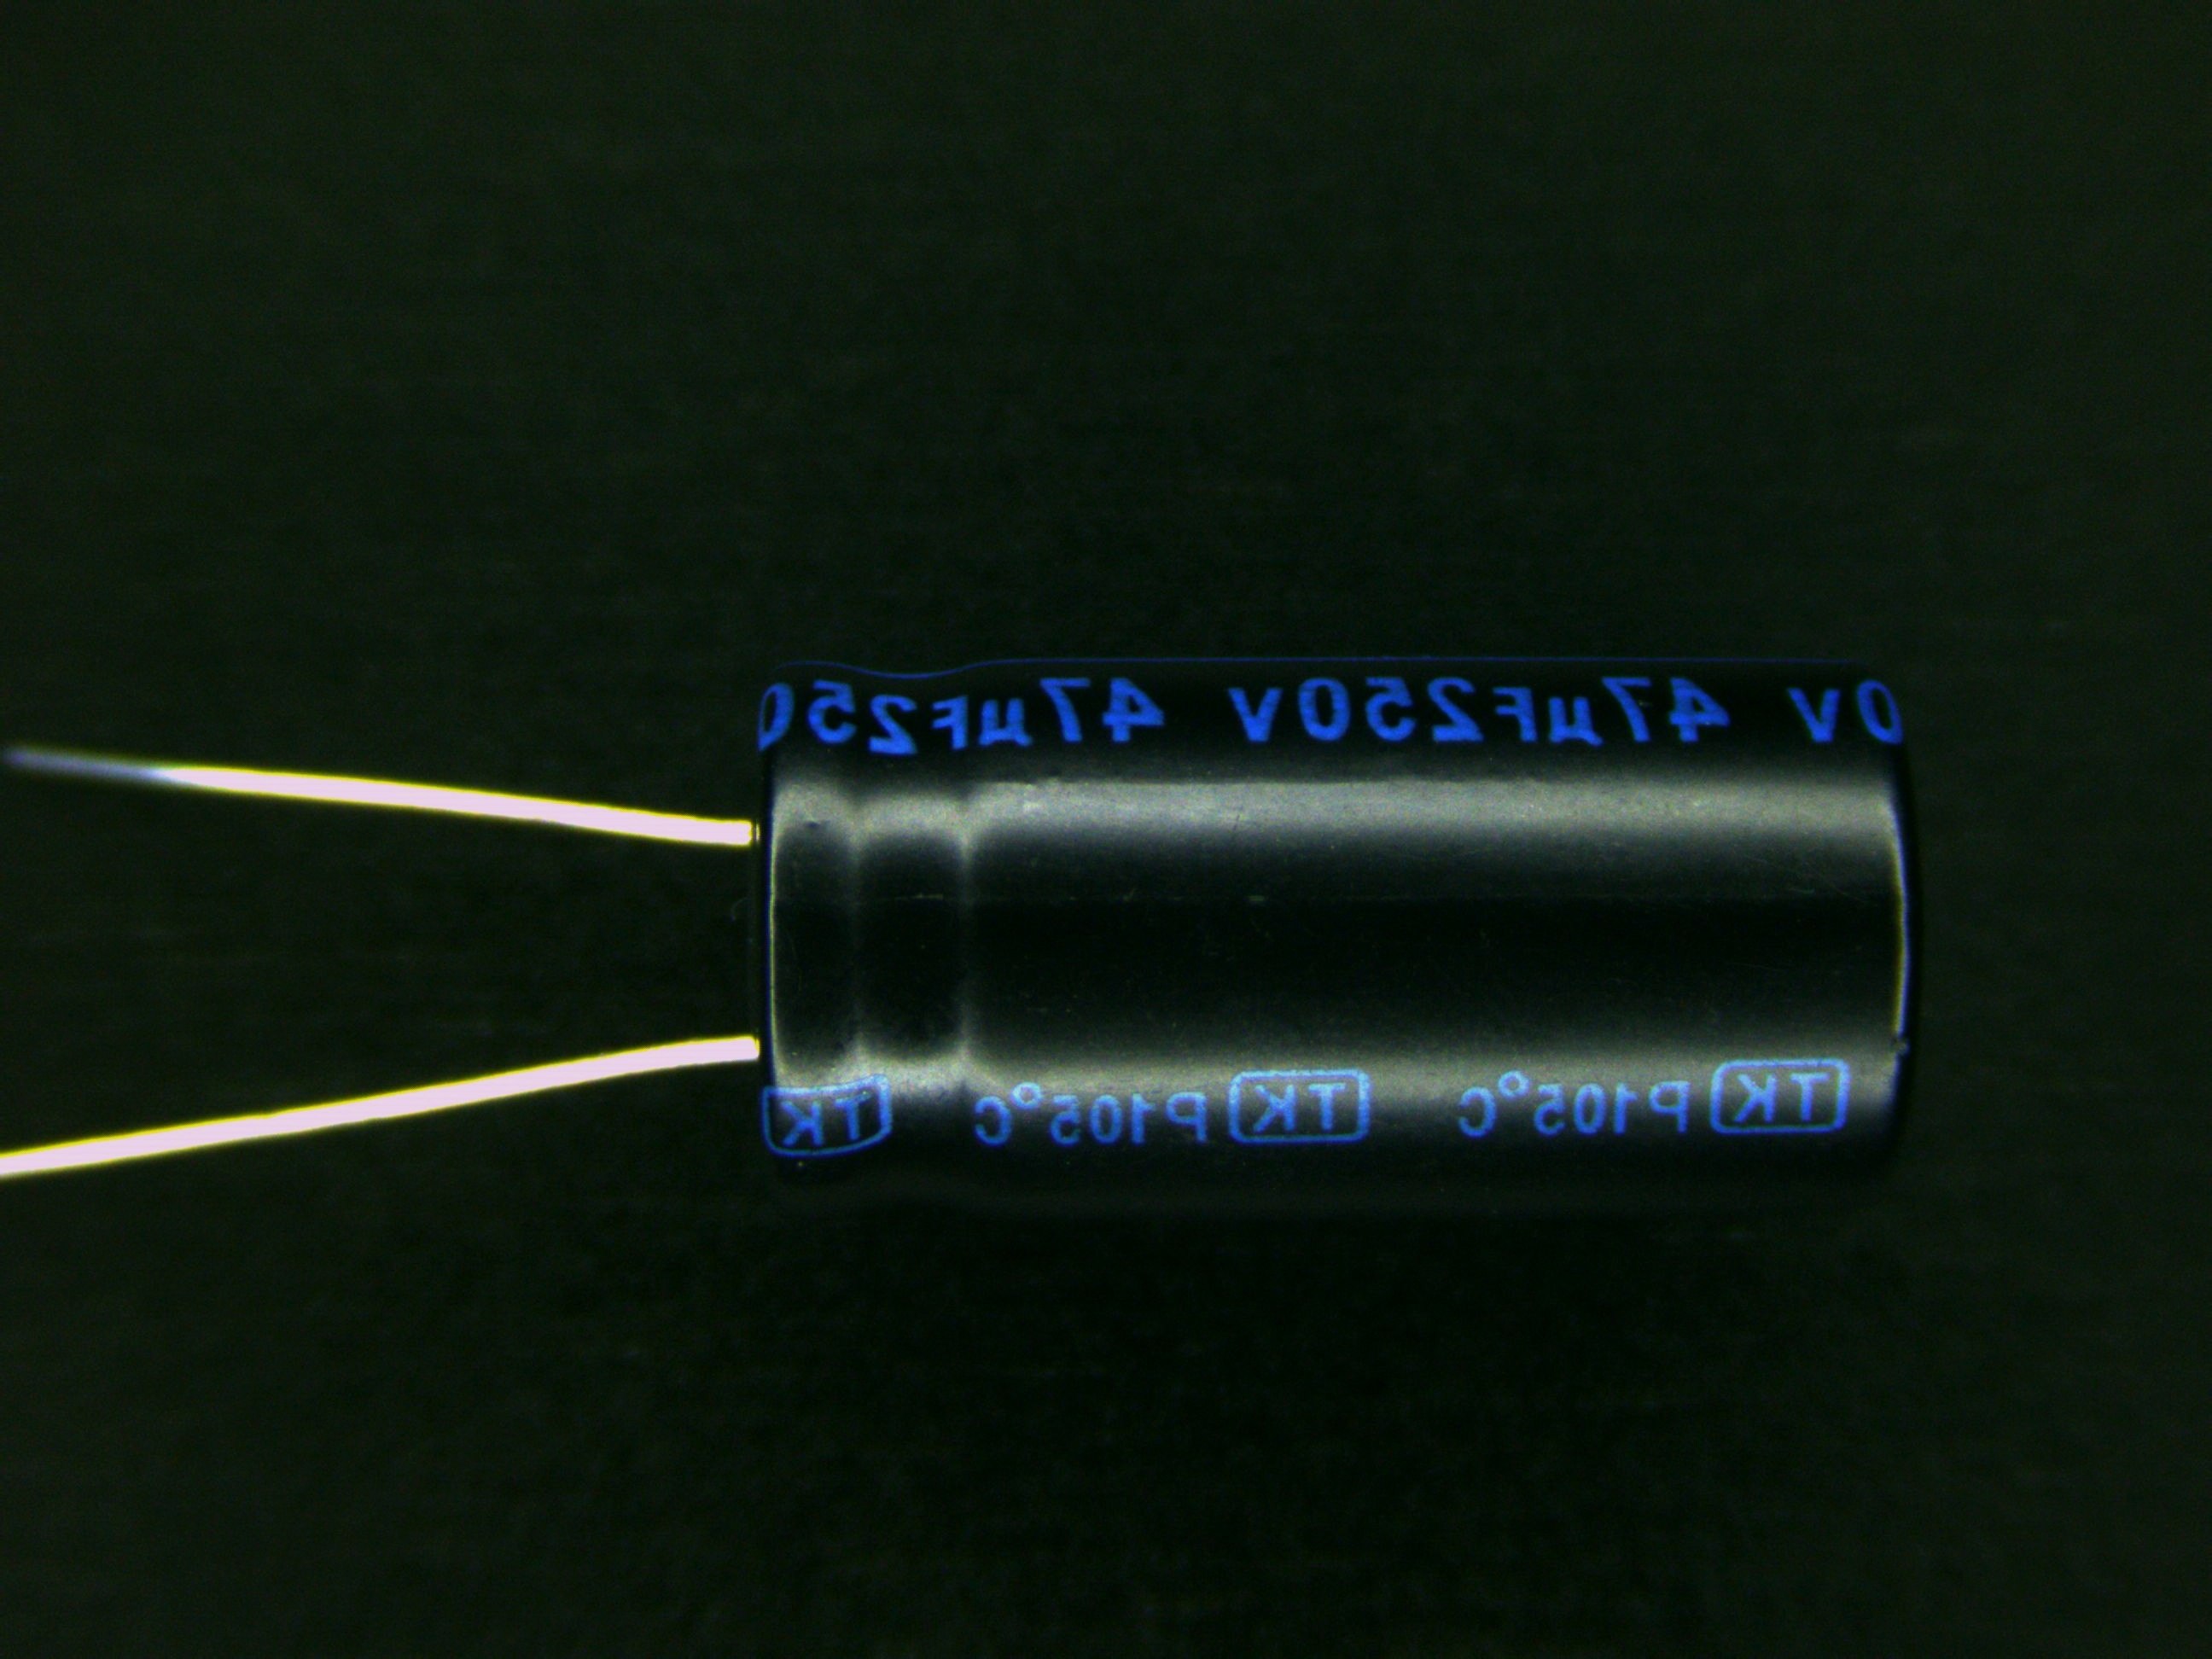c2: (582, 655, 1932, 1209)
